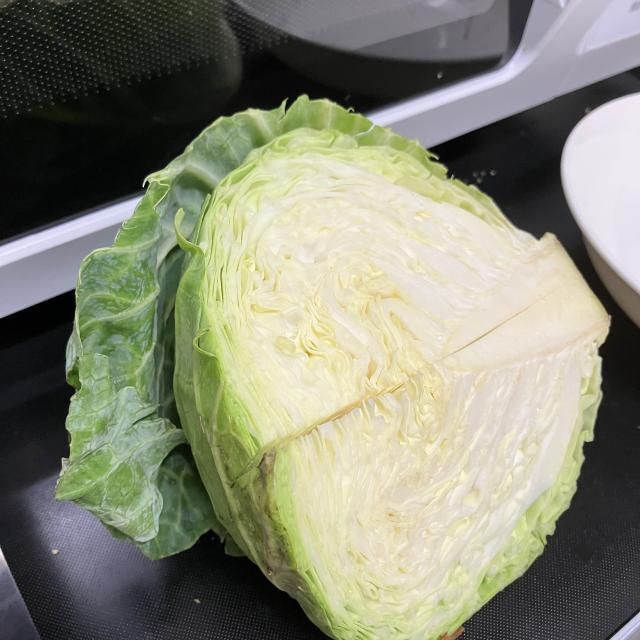cabbage: (49, 92, 614, 640)
